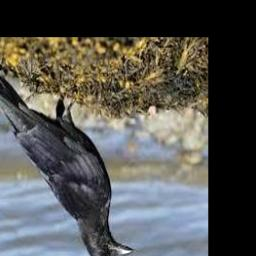Crow: (0, 73, 132, 256)
